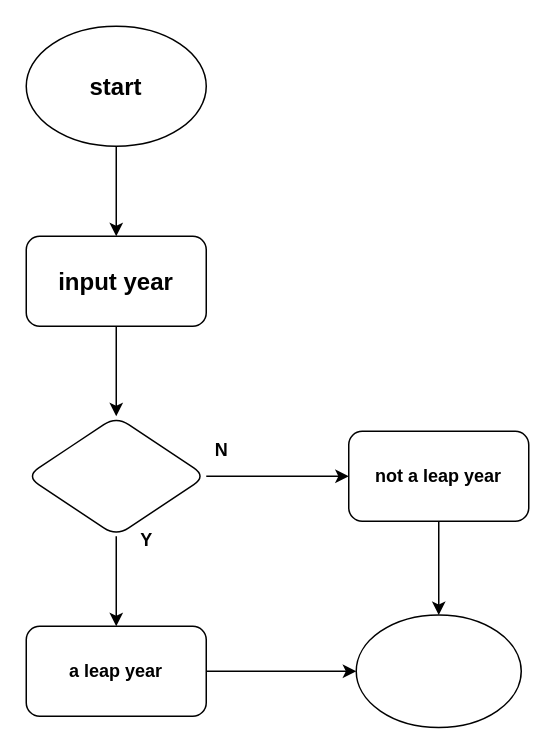
Image size: 555x755. Some labels were removed from this diagram. Each missing label, with the centre of its shape:
"end" goes at (438,671).
"int year%4=0" goes at (115,475).
